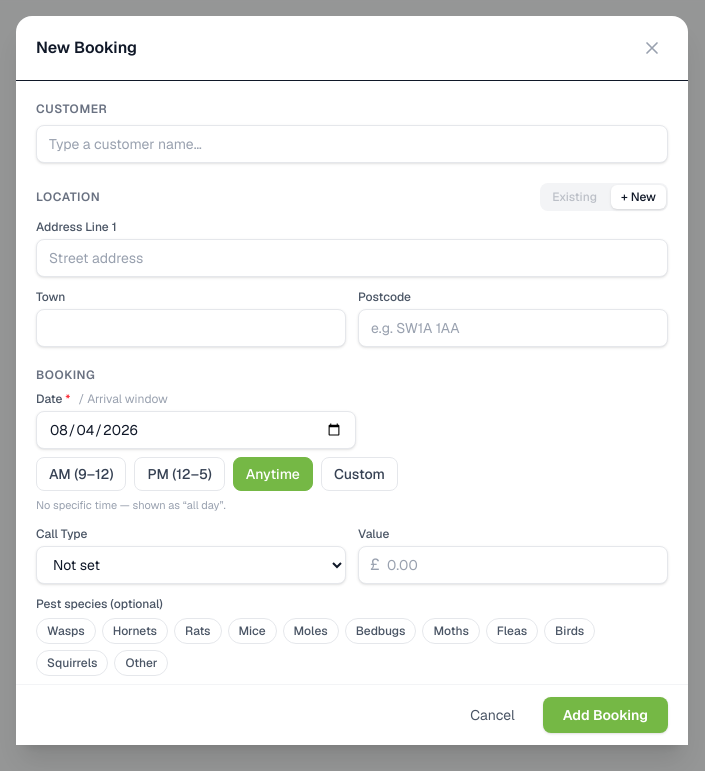
Test: BookingModal — create-mode customer combobox › typing a brand-new name → treated as a NEW customer (cue shown, no duplicate)
Type "James Potter" into the field with placeholder "Type a customer name…" at (352, 144), box [36,125,668,163]
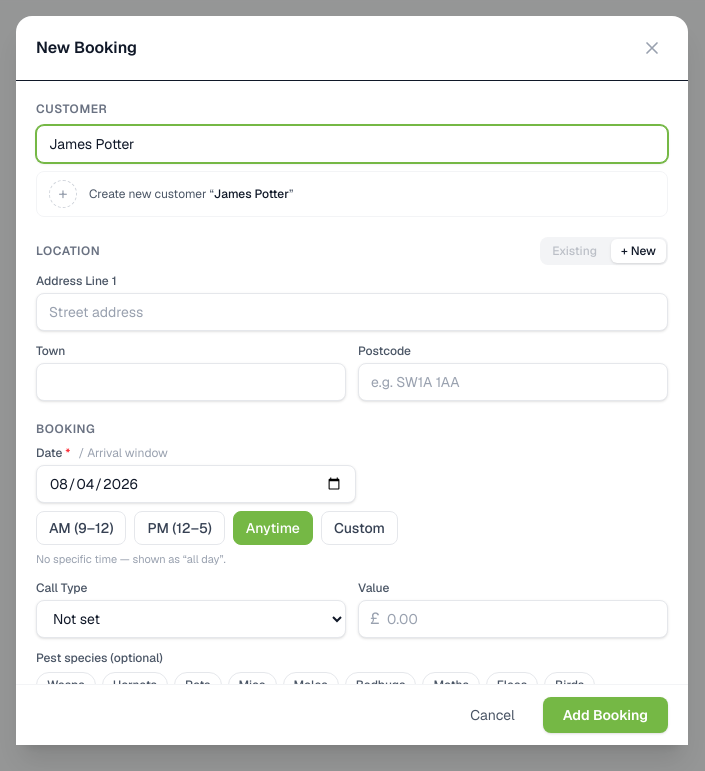
Expected: the text "Create new customer" is shown, [89,186,214,202]
Expected: the text "James Potter" is shown, [214,186,289,202]
